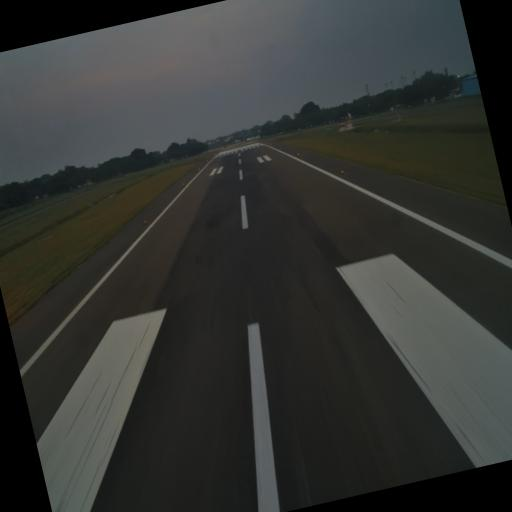on: (338, 167, 346, 176), (142, 217, 148, 226)
